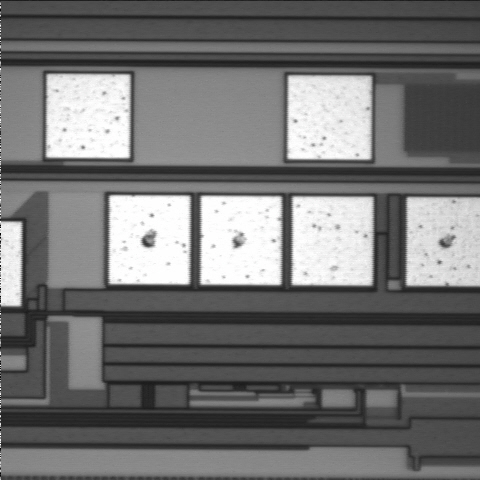pad: (109, 195, 190, 285), (201, 196, 282, 285), (292, 197, 373, 285), (46, 74, 130, 158), (288, 76, 371, 160)
